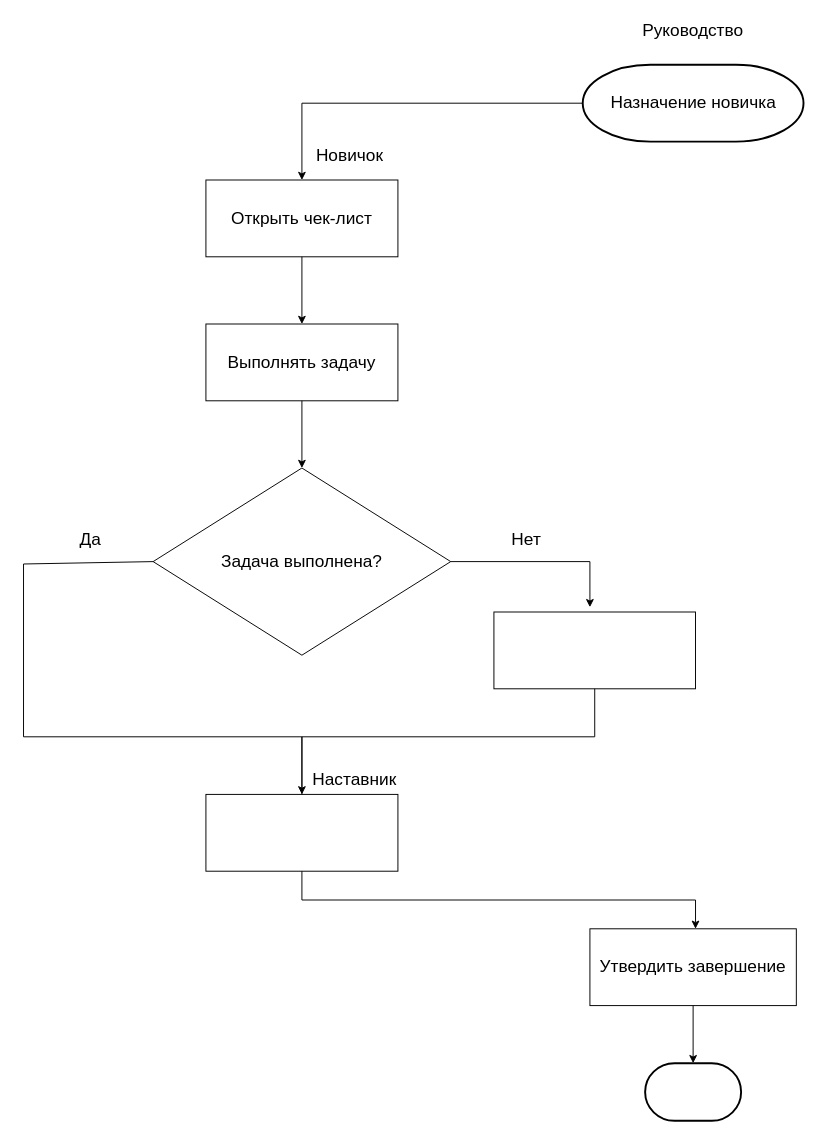
The diagram is 821 pixels wide and 1138 high, and some of its shapes have lost their labels. The shapes that lost their labels are listed below. From the top down, each one's centre as x and y in pixels, then its label:
[594,650]: Уведомить наставника
[301,832]: Проверить задачу
[693,1091]: Конец
